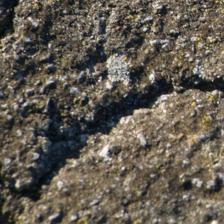Crack: (23, 70, 222, 206)
